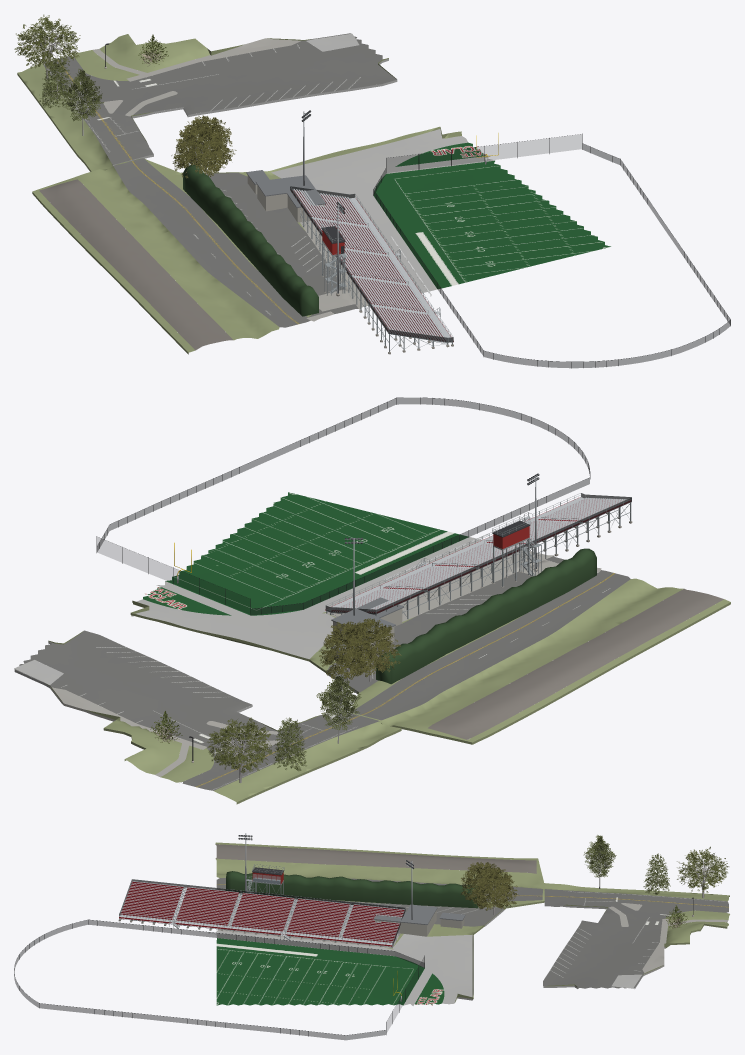
The picture shows the model from 3 angles, top to bottom: view 1: azimuth 30°, elevation 25°; view 2: azimuth 150°, elevation 25°; view 3: azimuth 270°, elevation 25°; orthographic projection. The views are drawn at different scales.
Parts seen in each view (by area): view 1: SW_ground_southwest_asphalt_-3_-1_UNVERIFIED, SW_ground_southwest_turf_-3_-1_UNVERIFIED, SW_ground_west_asphalt_-3_-1_UNVERIFIED, SW_ground_southwest_gravel_-3_-1_UNVERIFIED, SW_Field_West_grandstand_planks_UNVERIFIED, SW_Field_Carlisle_hedge_UNVERIFIED, SW_Field_West_grandstand_rails_UNVERIFIED, SW_ground_southwest_concrete_-3_-1_UNVERIFIED, SW_Field_Press_box_UNVERIFIED, SW_Field_West_grandstand_panels_UNVERIFIED, SW_Field_Tree_1_UNVERIFIEDspecies, SW_Field_North_goal_netting_UNVERIFIED (+6 smaller); view 2: SW_ground_southwest_asphalt_-3_-1_UNVERIFIED, SW_ground_southwest_turf_-3_-1_UNVERIFIED, SW_ground_west_asphalt_-3_-1_UNVERIFIED, SW_ground_southwest_gravel_-3_-1_UNVERIFIED, SW_Field_West_grandstand_rails_UNVERIFIED, SW_Field_Carlisle_hedge_UNVERIFIED, SW_Field_West_grandstand_planks_UNVERIFIED, SW_Field_Press_box_UNVERIFIED, SW_ground_southwest_concrete_-3_-1_UNVERIFIED, SW_Field_Tree_1_UNVERIFIEDspecies, SW_Field_North_goal_netting_UNVERIFIED, SW_W_trees_Tree_093_UNVERIFIEDspecies (+6 smaller); view 3: SW_ground_southwest_asphalt_-3_-1_UNVERIFIED, SW_ground_southwest_turf_-3_-1_UNVERIFIED, SW_Field_West_grandstand_panels_UNVERIFIED, SW_ground_west_asphalt_-3_-1_UNVERIFIED, SW_Field_West_grandstand_planks_UNVERIFIED, SW_Field_Carlisle_hedge_UNVERIFIED, SW_Field_West_grandstand_rails_UNVERIFIED, SW_ground_southwest_gravel_-3_-1_UNVERIFIED, SW_Field_Tree_1_UNVERIFIEDspecies, SW_Field_Press_box_UNVERIFIED, SW_Field_Storage_shed_N_UNVERIFIED, SW_ground_southwest_concrete_-3_-1_UNVERIFIED (+6 smaller).
Part boxes in pixels (x1,y1,x2,y2): SW_ground_southwest_asphalt_-3_-1_UNVERIFIED: (17,33,494,354); SW_ground_southwest_turf_-3_-1_UNVERIFIED: (373,142,610,288); SW_ground_west_asphalt_-3_-1_UNVERIFIED: (43,33,396,164); SW_ground_southwest_gravel_-3_-1_UNVERIFIED: (39,179,233,350); SW_Field_West_grandstand_planks_UNVERIFIED: (291,188,452,341); SW_Field_Carlisle_hedge_UNVERIFIED: (183,164,318,316); SW_Field_West_grandstand_rails_UNVERIFIED: (290,144,730,368); SW_ground_southwest_concrete_-3_-1_UNVERIFIED: (93,38,393,321); SW_Field_Press_box_UNVERIFIED: (290,186,453,352); SW_Field_West_grandstand_panels_UNVERIFIED: (292,190,453,341); SW_Field_Tree_1_UNVERIFIEDspecies: (19,26,236,178); SW_Field_North_goal_netting_UNVERIFIED: (386,133,582,173); SW_ground_southwest_asphalt_-3_-1_UNVERIFIED: (14,537,730,804); SW_ground_southwest_turf_-3_-1_UNVERIFIED: (143,492,468,615); SW_ground_west_asphalt_-3_-1_UNVERIFIED: (14,630,379,790); SW_ground_southwest_gravel_-3_-1_UNVERIFIED: (428,588,723,739); SW_Field_West_grandstand_rails_UNVERIFIED: (97,397,631,615); SW_Field_Carlisle_hedge_UNVERIFIED: (376,548,596,684); SW_Field_West_grandstand_planks_UNVERIFIED: (326,497,630,612); SW_Field_Press_box_UNVERIFIED: (325,493,631,619); SW_ground_southwest_concrete_-3_-1_UNVERIFIED: (50,550,601,776); SW_Field_Tree_1_UNVERIFIEDspecies: (212,618,401,782); SW_Field_North_goal_netting_UNVERIFIED: (96,536,250,615); SW_W_trees_Tree_093_UNVERIFIEDspecies: (207,717,272,773); SW_ground_southwest_asphalt_-3_-1_UNVERIFIED: (215,842,729,1005); SW_ground_southwest_turf_-3_-1_UNVERIFIED: (216,938,444,1005); SW_Field_West_grandstand_panels_UNVERIFIED: (119,881,404,946); SW_ground_west_asphalt_-3_-1_UNVERIFIED: (543,889,728,988); SW_Field_West_grandstand_planks_UNVERIFIED: (119,881,404,945); SW_Field_Carlisle_hedge_UNVERIFIED: (226,871,478,908); SW_Field_West_grandstand_rails_UNVERIFIED: (14,879,424,1040); SW_ground_southwest_gravel_-3_-1_UNVERIFIED: (215,844,536,873); SW_Field_Tree_1_UNVERIFIEDspecies: (460,852,727,914); SW_Field_Press_box_UNVERIFIED: (119,864,405,947); SW_Field_Storage_shed_N_UNVERIFIED: (373,904,465,936); SW_ground_southwest_concrete_-3_-1_UNVERIFIED: (217,889,728,975).
Bounding box in the file's own units: 148 × 26.73 × 224.
Materials: 45 (14 with a texture image).
